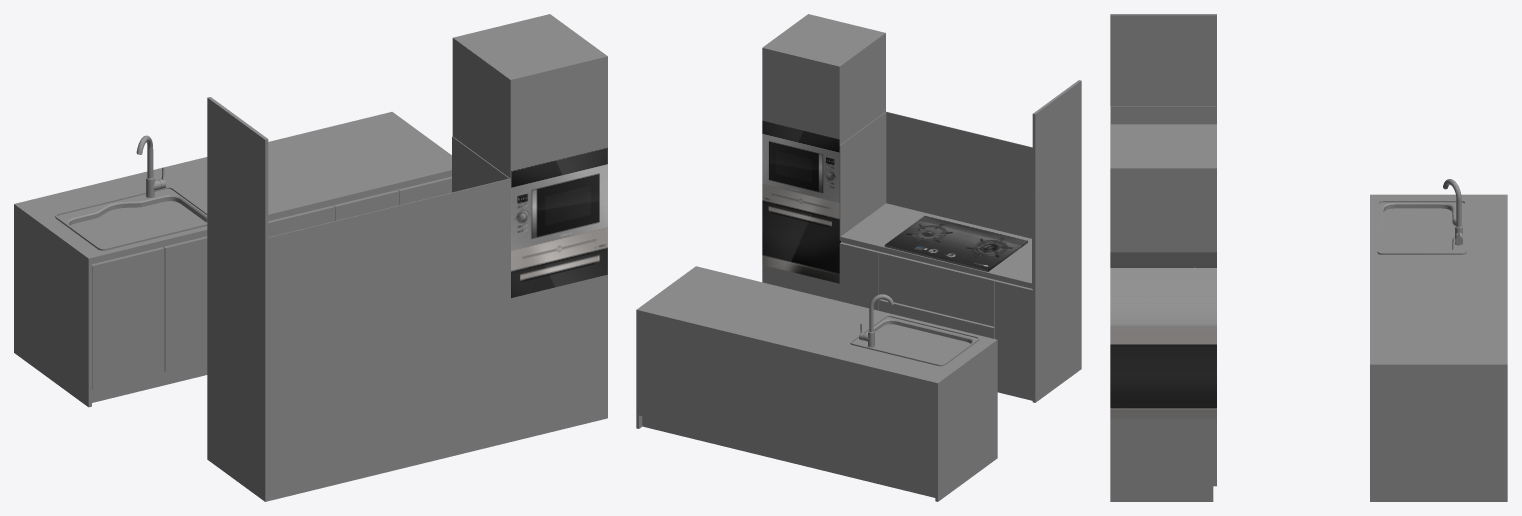
The picture shows the model from 3 angles, left to right: view 1: azimuth 30°, elevation 25°; view 2: azimuth 150°, elevation 25°; view 3: azimuth 270°, elevation 25°; orthographic projection. The views are drawn at different scales.
Visible parts, largest first — view 1: 櫥櫃踢腳, 櫥櫃隔板, 櫥櫃滑面, 工作檯門, 工作檯檯面, 櫥櫃烤箱, 櫥櫃收納櫃, 工作檯水槽, 工作檯踢腳, 櫥櫃台面; view 2: 櫥櫃隔板, 工作檯門, 櫥櫃滑面, 工作檯檯面, 櫥櫃收納櫃, 櫥櫃烤箱, 瓦斯爐, 櫥櫃台面, 工作檯踢腳, 工作檯水槽, 櫥櫃踢腳; view 3: 櫥櫃隔板, 工作檯檯面, 工作檯踢腳, 櫥櫃收納櫃, 櫥櫃烤箱, 工作檯門, 工作檯水槽, 櫥櫃滑面, 櫥櫃踢腳.
Part boxes in pixels (x1,y1,x2,y2): 櫥櫃踢腳: (268, 274, 607, 500); 櫥櫃隔板: (207, 14, 607, 501); 櫥櫃滑面: (268, 136, 510, 352); 工作檯門: (14, 176, 451, 407); 工作檯檯面: (14, 112, 451, 263); 櫥櫃烤箱: (511, 147, 607, 250); 櫥櫃收納櫃: (511, 227, 607, 297); 工作檯水槽: (55, 135, 207, 250); 工作檯踢腳: (92, 175, 451, 402); 櫥櫃台面: (268, 293, 510, 357); 櫥櫃隔板: (762, 14, 1081, 402); 工作檯門: (636, 314, 997, 501); 櫥櫃滑面: (839, 111, 1032, 283); 工作檯檯面: (636, 266, 997, 387); 櫥櫃收納櫃: (762, 184, 840, 283); 櫥櫃烤箱: (762, 120, 839, 202); 瓦斯爐: (884, 215, 1027, 271); 櫥櫃台面: (839, 203, 1032, 287); 工作檯踢腳: (642, 416, 935, 497); 工作檯水槽: (850, 294, 979, 366); 櫥櫃踢腳: (841, 241, 1032, 400); 櫥櫃隔板: (1110, 14, 1216, 486); 工作檯檯面: (1370, 194, 1507, 369); 工作檯踢腳: (1377, 369, 1499, 501); 櫥櫃收納櫃: (1110, 325, 1216, 419); 櫥櫃烤箱: (1110, 252, 1216, 325); 工作檯門: (1370, 369, 1507, 501); 工作檯水槽: (1377, 179, 1466, 254); 櫥櫃滑面: (1110, 106, 1216, 124); 櫥櫃踢腳: (1110, 486, 1213, 501).
Size of the model in its own units: 234 by 214 by 231.
